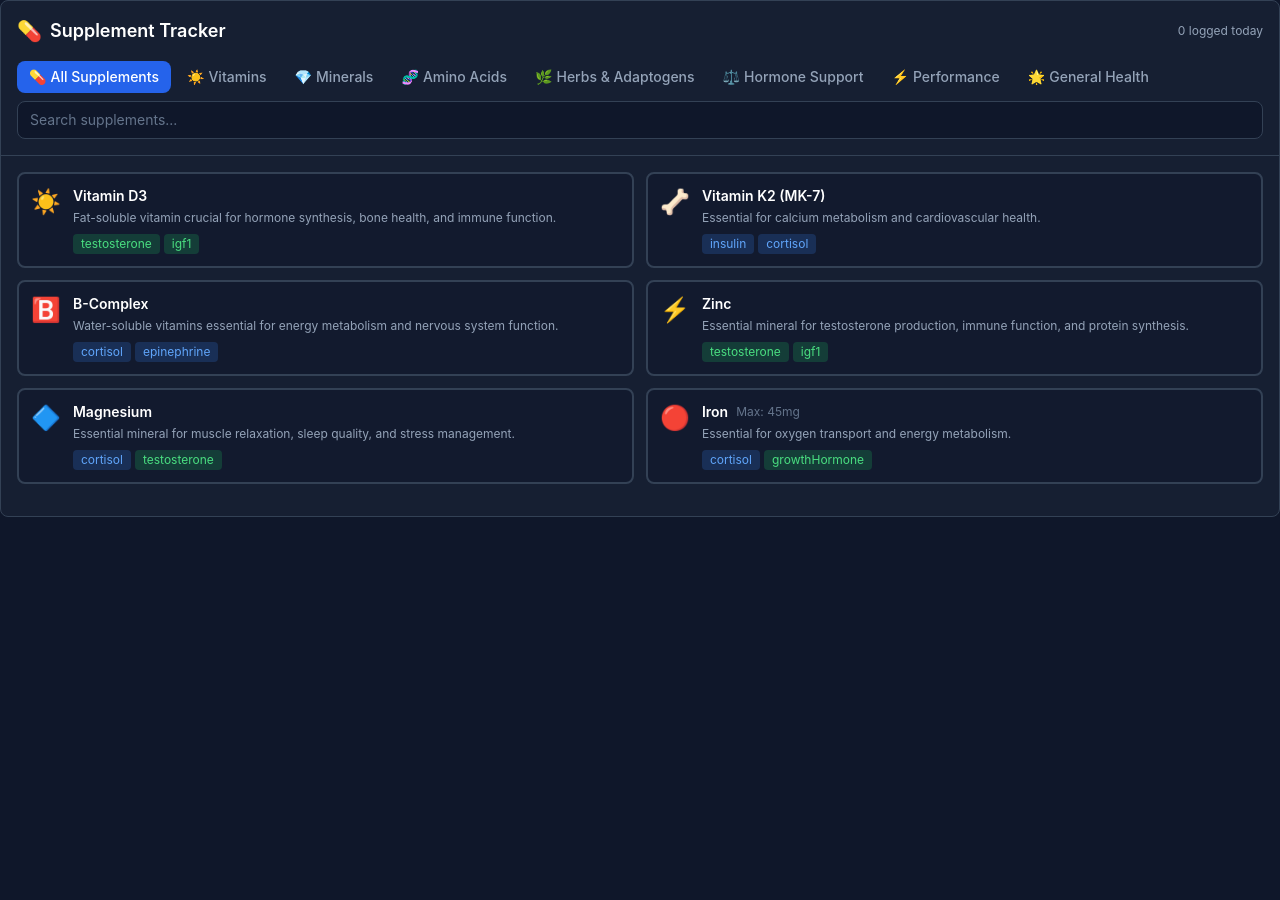
Test: SupplementTracker › should select supplement when card is clicked
The width and height of the screenshot is (1280, 900).
// Find a supplement card by text and click it
Click the option "Vitamin D3" at (326, 220), box [17,172,634,268]
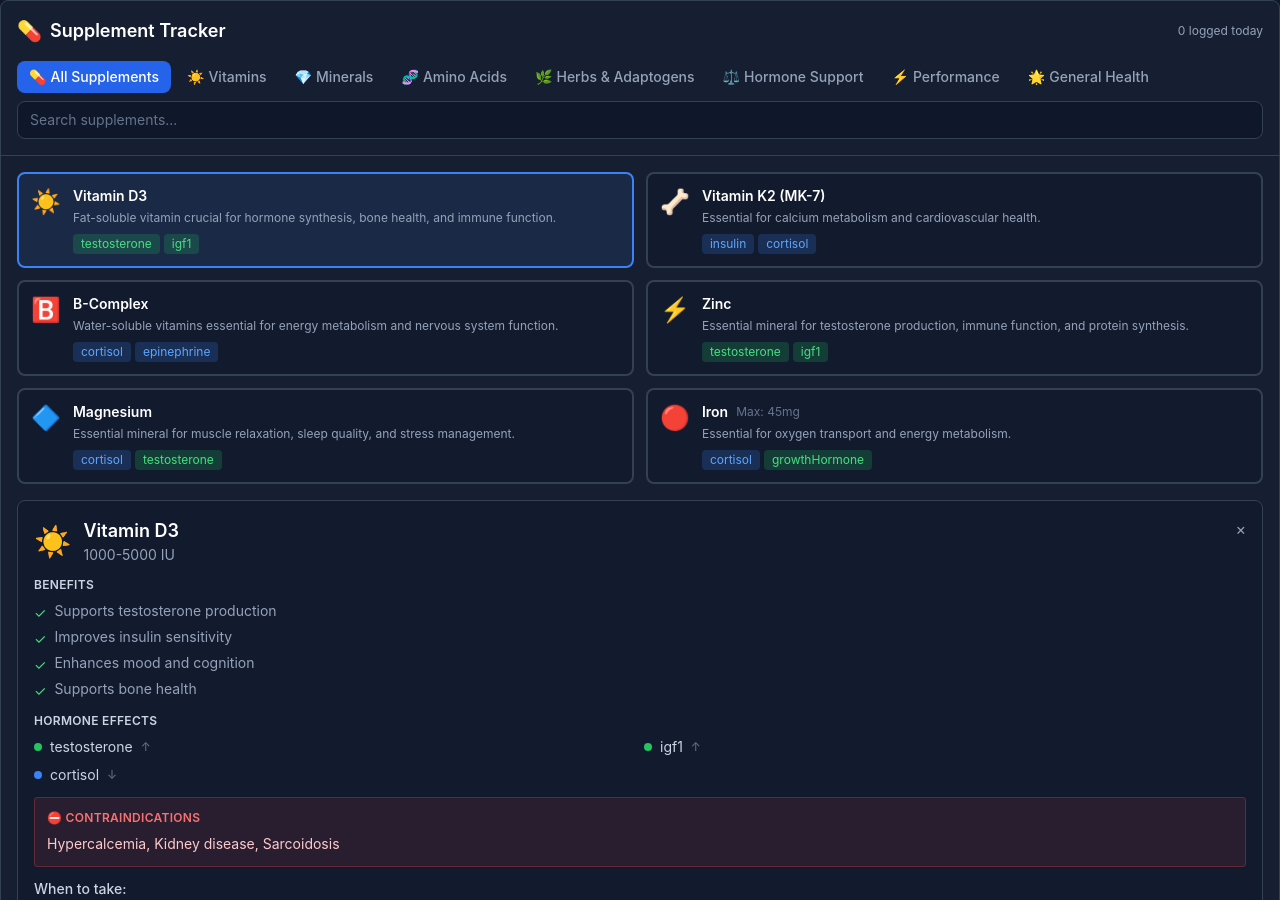
Now the heading "Benefits" is shown, box [34,577,94,592]
Now the heading "Hormone Effects" is shown, box [34,713,157,728]
